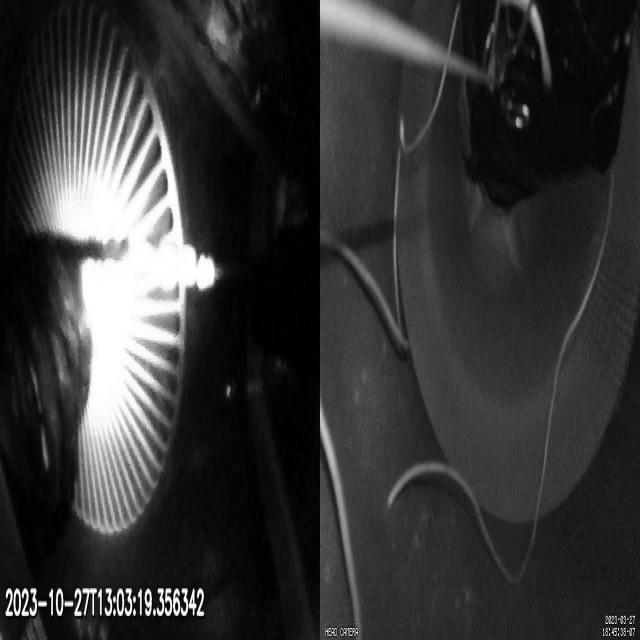white-dots: (159, 242, 216, 294)
